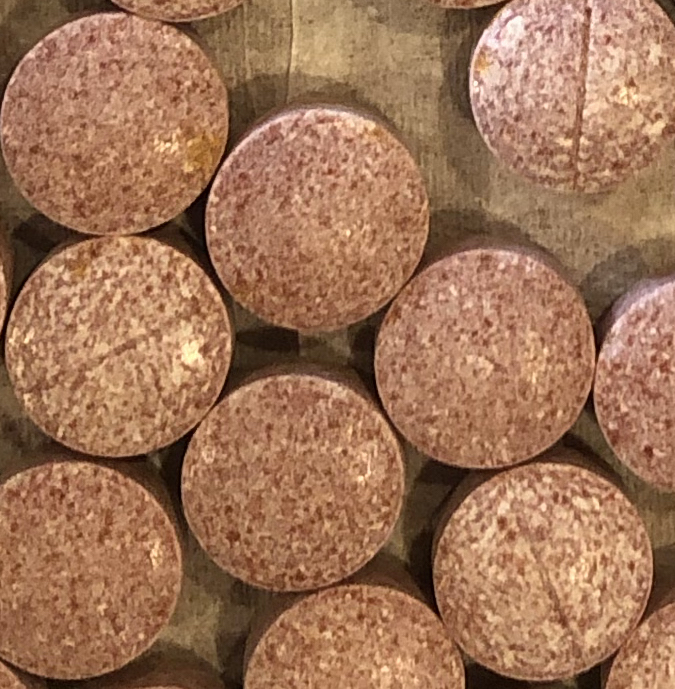tablet: (205, 94, 432, 331), (373, 232, 597, 470), (1, 8, 232, 238), (5, 231, 236, 459), (431, 461, 657, 683), (179, 371, 406, 588), (459, 1, 675, 195), (4, 465, 183, 680), (242, 592, 466, 689), (593, 273, 675, 492)
